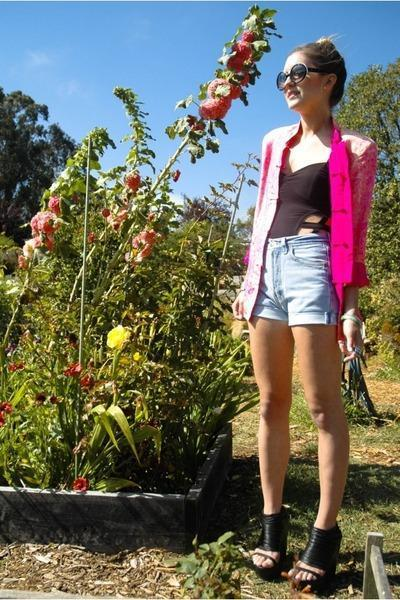jacket: (232, 124, 385, 323)
shirt: (266, 156, 330, 241)
shoe: (247, 509, 342, 583)
shorts: (256, 229, 336, 323)
